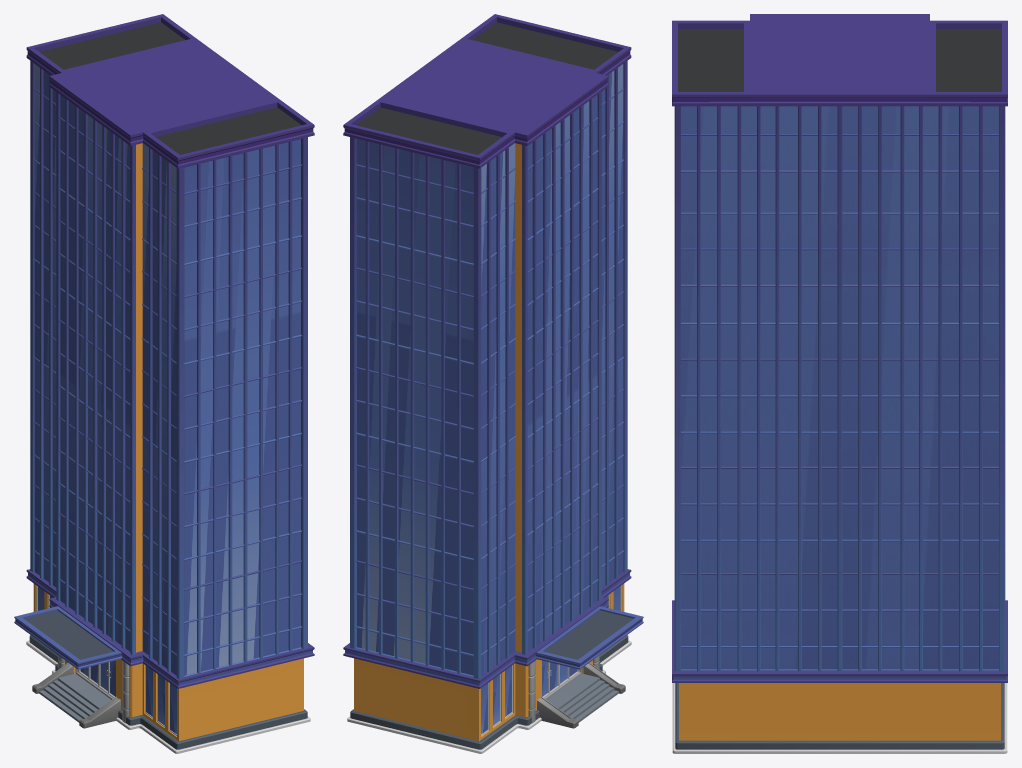
The model's file is Building_17_3_B.fbx.
3 renders of one model, left to right at view 1: azimuth 30°, elevation 25°; view 2: azimuth 150°, elevation 25°; view 3: azimuth 270°, elevation 25°, orthographic. The views are drawn at different scales.
Visible parts, largest first — view 1: Building_17_3_B; view 2: Building_17_3_B; view 3: Building_17_3_B.
Boxes of the visible parts, box(x1,y1,x2,y2) form: Building_17_3_B: box(14, 14, 314, 753); Building_17_3_B: box(343, 14, 643, 753); Building_17_3_B: box(672, 14, 1007, 753).
Bounding box in the file's own units: 857 × 2536 × 1168.
